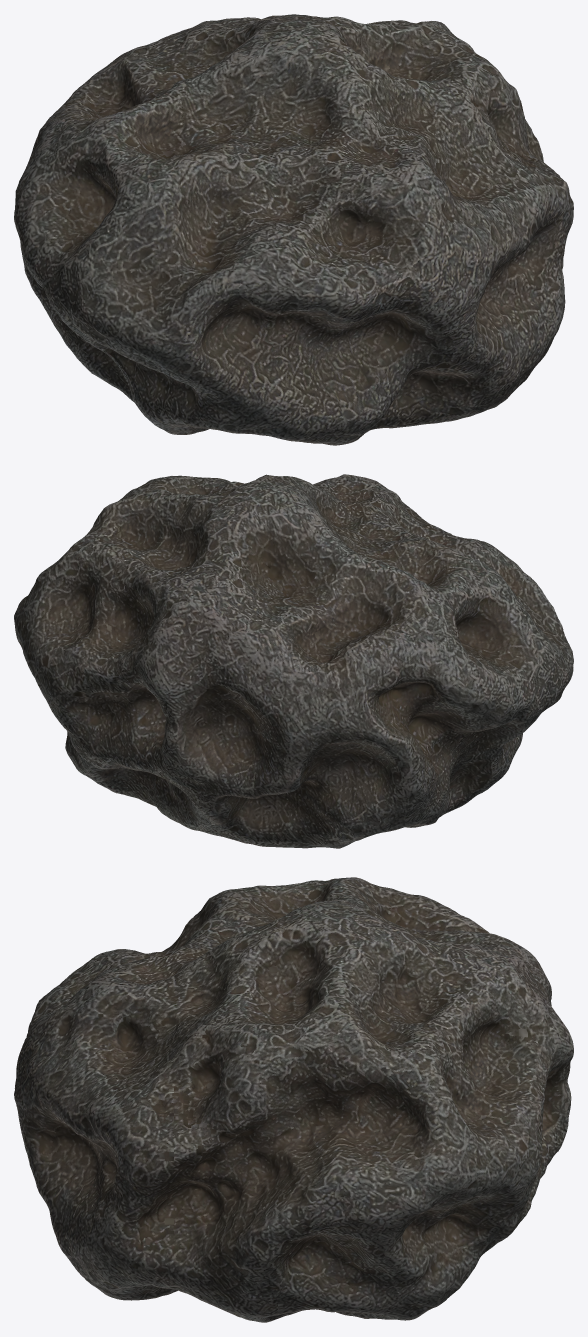
The model's file is asteroid_common_2.glb.
The picture shows the model from 3 angles, top to bottom: view 1: azimuth 30°, elevation 25°; view 2: azimuth 150°, elevation 25°; view 3: azimuth 270°, elevation 25°; orthographic projection. The views are drawn at different scales.
Parts seen in each view (by area): view 1: model; view 2: model; view 3: model.
Part boxes in pixels (<box>): model: <box>14,14,573,445</box>; model: <box>14,474,573,848</box>; model: <box>14,877,573,1322</box>.
Size of the model in its own units: 1.89 by 1.26 by 1.73.
1 material, 1 textured.
